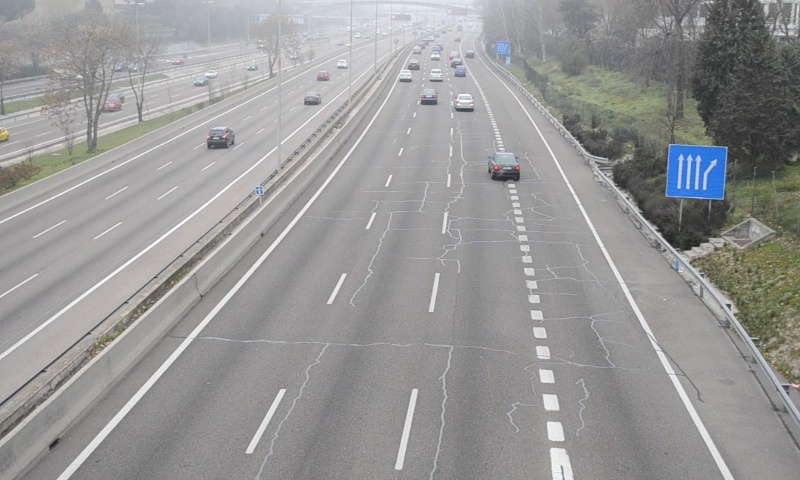car: (488, 151, 521, 180), (454, 93, 475, 110), (420, 87, 437, 105)
